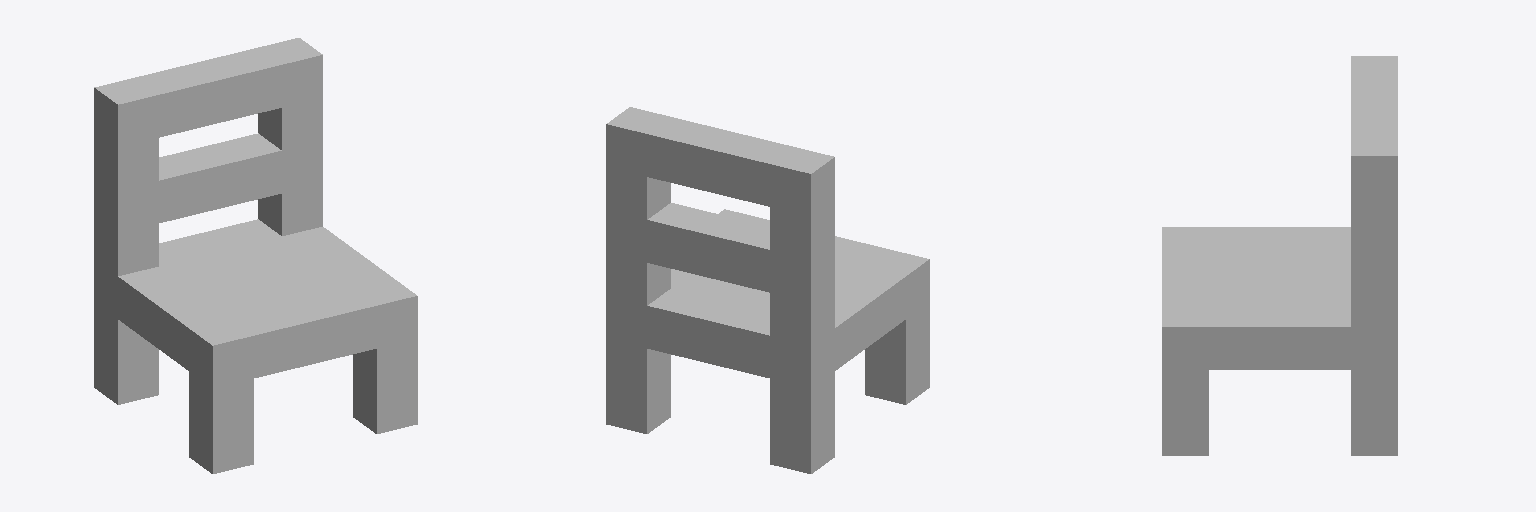
The model's file is Chair_V2.obj.
3 views of the same model, side by side, from view 1: azimuth 30°, elevation 25°; view 2: azimuth 150°, elevation 25°; view 3: azimuth 270°, elevation 25° (orthographic).
Visible parts, largest first — view 1: Chair_V2; view 2: Chair_V2; view 3: Chair_V2.
Part boxes in pixels (left/top/right/bottom): Chair_V2: left=94, top=38, right=417, bottom=473; Chair_V2: left=606, top=107, right=929, bottom=473; Chair_V2: left=1162, top=56, right=1397, bottom=455.
Size of the model in its own units: 5 by 7 by 5.